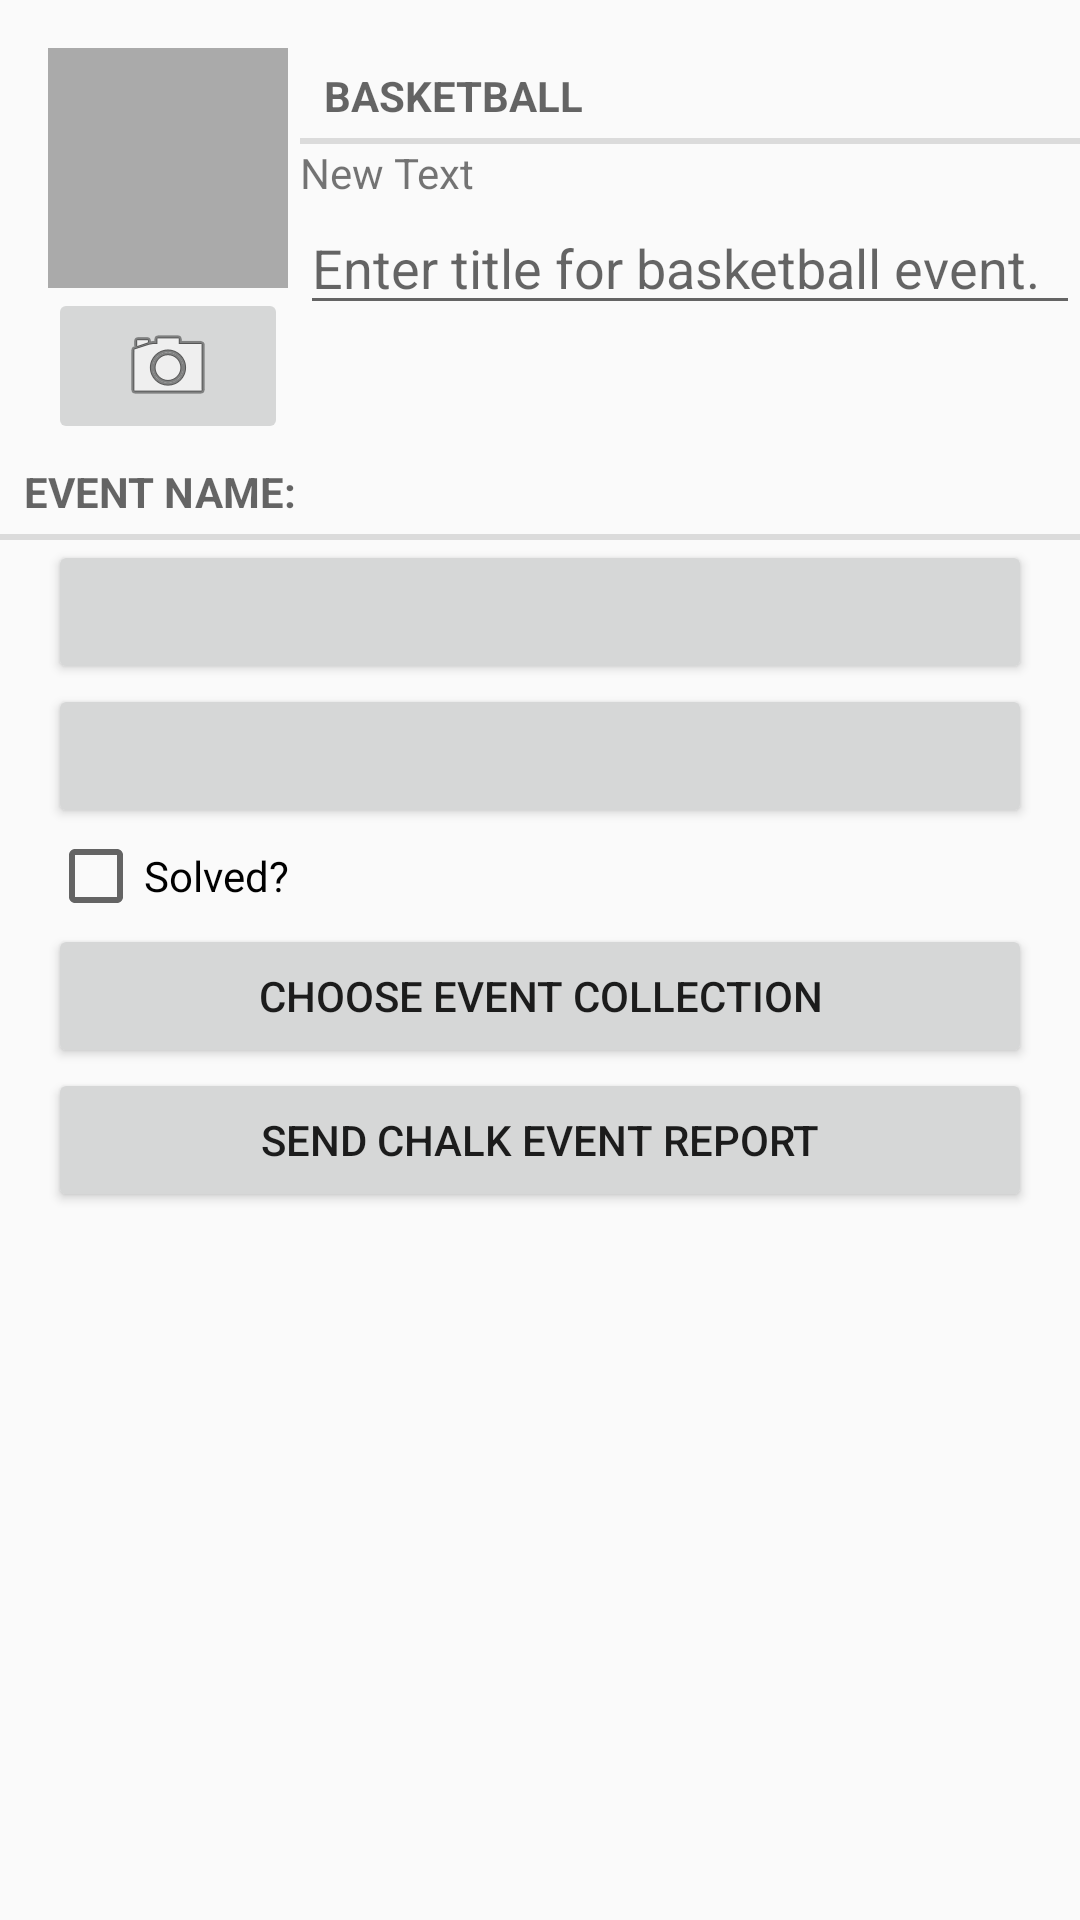

Icon click points for this 1080 x 1920 phone screenshot, format [x,y]:
camera: [168,366]
